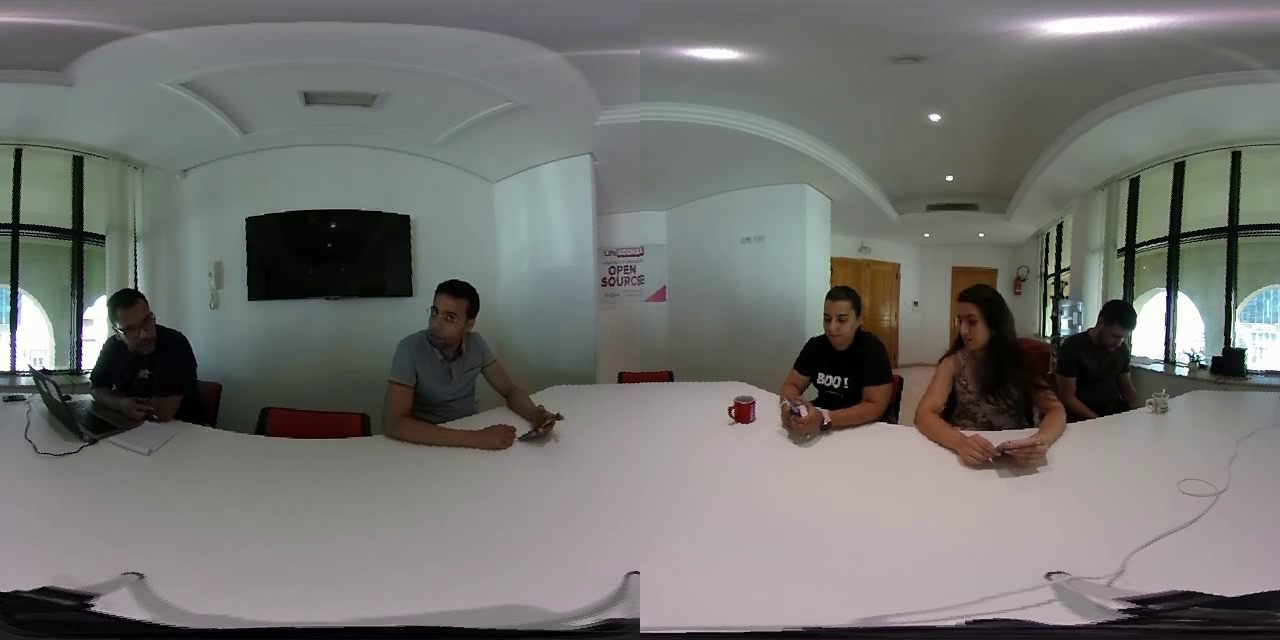person: (376, 267, 524, 448), (912, 279, 1050, 461), (782, 274, 913, 431), (80, 273, 205, 417), (1051, 288, 1146, 424)
